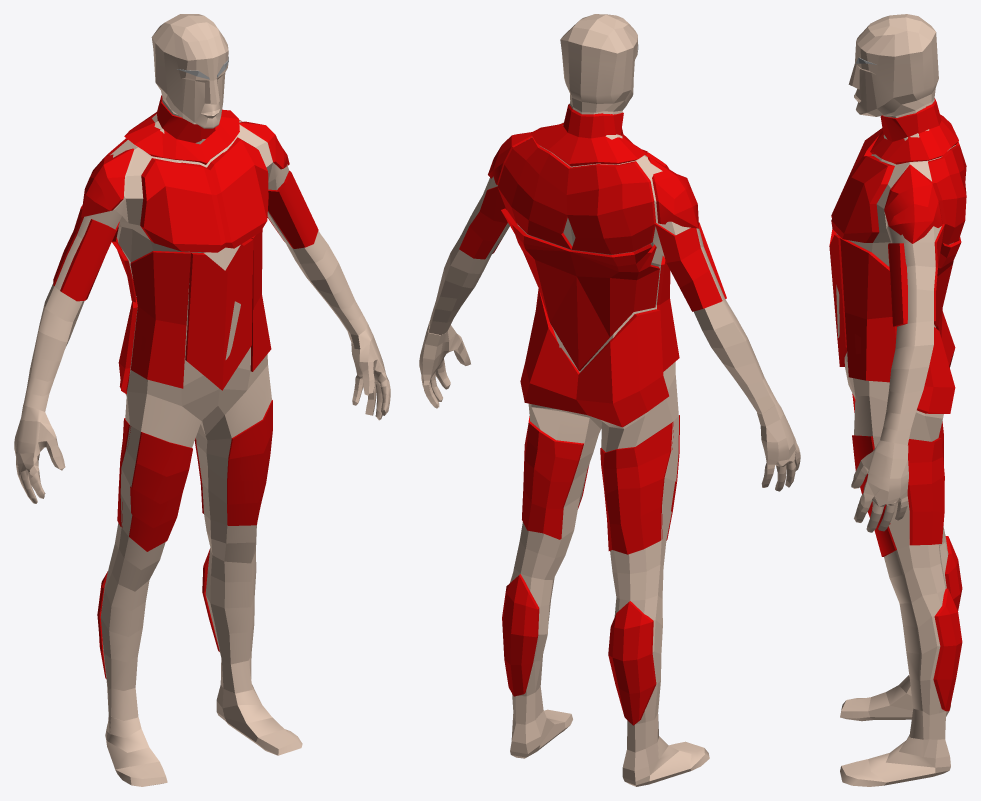
Rendered from Human_Body_v3.fbx.
3 renders of one model, left to right at view 1: azimuth 30°, elevation 25°; view 2: azimuth 150°, elevation 25°; view 3: azimuth 270°, elevation 25°, orthographic.
Parts seen in each view (by area): view 1: Fullbody, Pectorals, Quadriceps, Obliques, Abdominus, Head, Feet, Biceps, TrapeZius, Deltiods, Gluteals, Hands (+1 smaller); view 2: Fullbody, Rhomboids, Abductors, Gluteals, Latissimus_Dorsi, Gastrocnemius, Head, Triceps, TrapeZius, Hands, Deltiods, Feet (+1 smaller); view 3: Fullbody, Head, Obliques, Abductors, Pectorals, TrapeZius, Feet, Gastrocnemius, Deltiods, Rhomboids, Gluteals, Hands (+5 smaller).
Boxes of the visible parts, x1=… form: Fullbody: x1=16, y1=98, x2=390, y2=784; Pectorals: x1=140, y1=137, x2=268, y2=252; Quadriceps: x1=129, y1=400, x2=272, y2=551; Obliques: x1=130, y1=229, x2=271, y2=388; Abdominus: x1=185, y1=238, x2=253, y2=390; Head: x1=151, y1=14, x2=228, y2=128; Feet: x1=110, y1=684, x2=302, y2=786; Biceps: x1=60, y1=170, x2=318, y2=301; TrapeZius: x1=124, y1=95, x2=239, y2=164; Deltiods: x1=81, y1=121, x2=289, y2=217; Gluteals: x1=118, y1=297, x2=137, y2=394; Hands: x1=14, y1=332, x2=383, y2=499; Fullbody: x1=429, y1=101, x2=800, y2=786; Rhomboids: x1=497, y1=137, x2=655, y2=254; Abductors: x1=522, y1=416, x2=673, y2=554; Gluteals: x1=520, y1=288, x2=668, y2=427; Latissimus_Dorsi: x1=501, y1=208, x2=659, y2=370; Gastrocnemius: x1=502, y1=574, x2=656, y2=725; Head: x1=560, y1=14, x2=637, y2=112; Triceps: x1=459, y1=186, x2=722, y2=311; TrapeZius: x1=530, y1=104, x2=647, y2=166; Hands: x1=419, y1=321, x2=800, y2=491; Deltiods: x1=488, y1=132, x2=698, y2=228; Feet: x1=535, y1=709, x2=709, y2=767; Fullbody: x1=836, y1=99, x2=955, y2=786; Head: x1=848, y1=14, x2=938, y2=116; Obliques: x1=840, y1=238, x2=896, y2=382; Abductors: x1=907, y1=421, x2=944, y2=545; Pectorals: x1=831, y1=128, x2=894, y2=242; TrapeZius: x1=870, y1=98, x2=958, y2=164; Feet: x1=840, y1=675, x2=934, y2=786; Gastrocnemius: x1=933, y1=536, x2=962, y2=711; Deltiods: x1=884, y1=164, x2=942, y2=243; Rhomboids: x1=928, y1=142, x2=966, y2=244; Gluteals: x1=917, y1=311, x2=955, y2=413; Hands: x1=855, y1=443, x2=908, y2=532.
Size of the model in its own units: 0.9478 by 1.82 by 0.3106.
